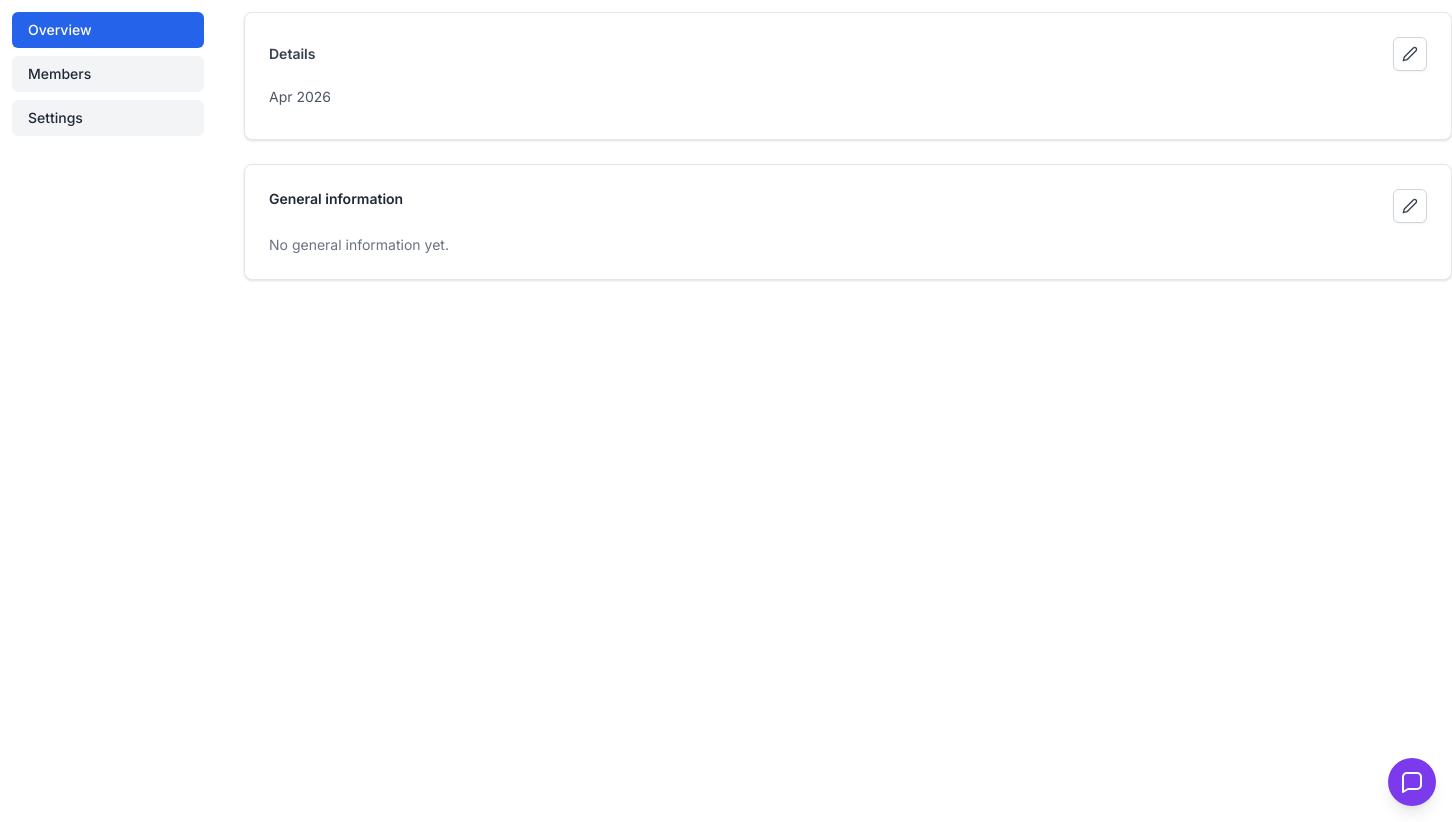
Scenario: EventDetailClient › opens full event edit when Edit event is clicked
The image size is (1452, 822).
Click the button named "Edit event" at [1410, 54], box [1393, 37, 1427, 71]
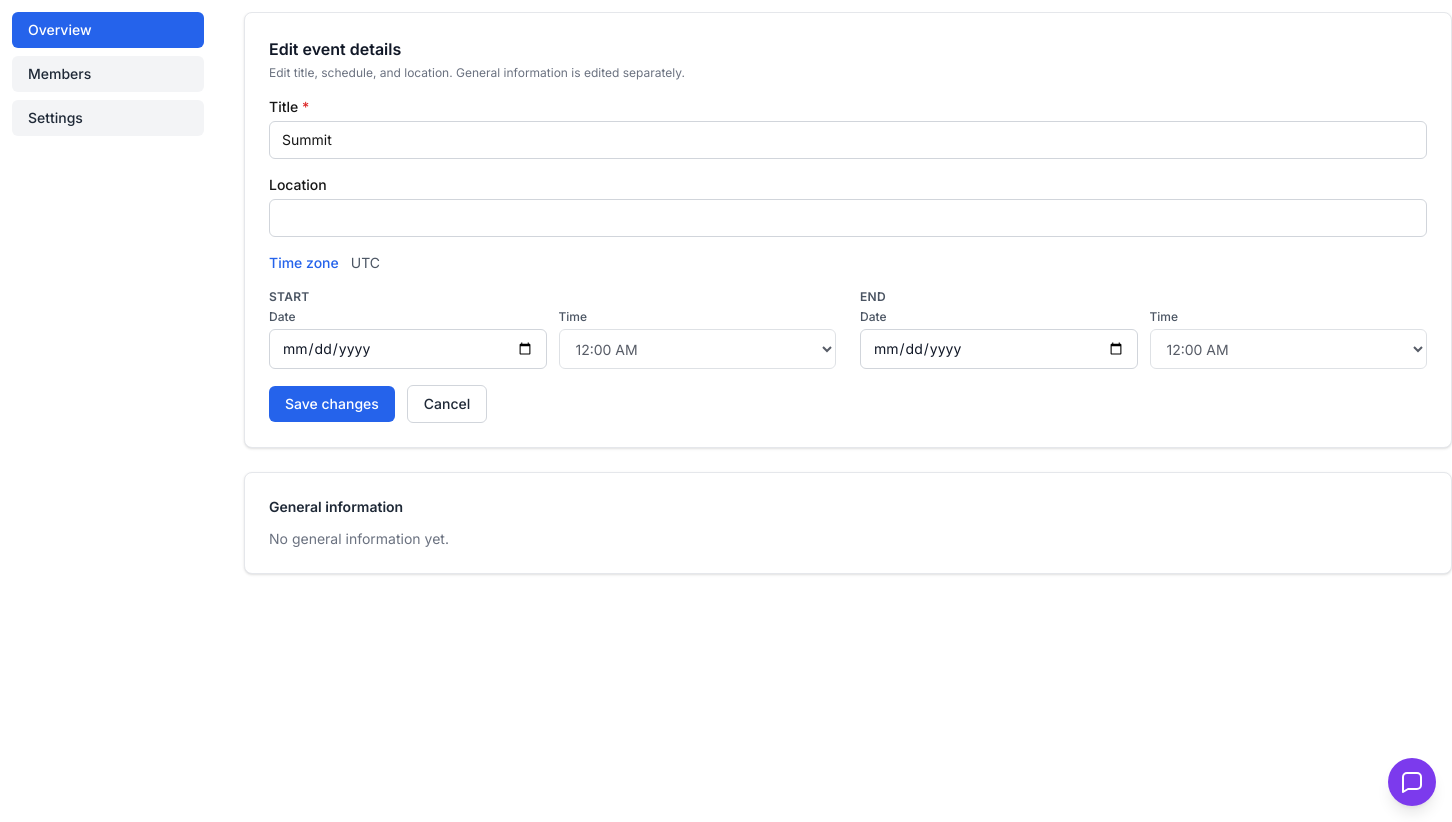
Expected: the element with test id "edit-details-form" is shown, [244, 12, 1451, 448]
